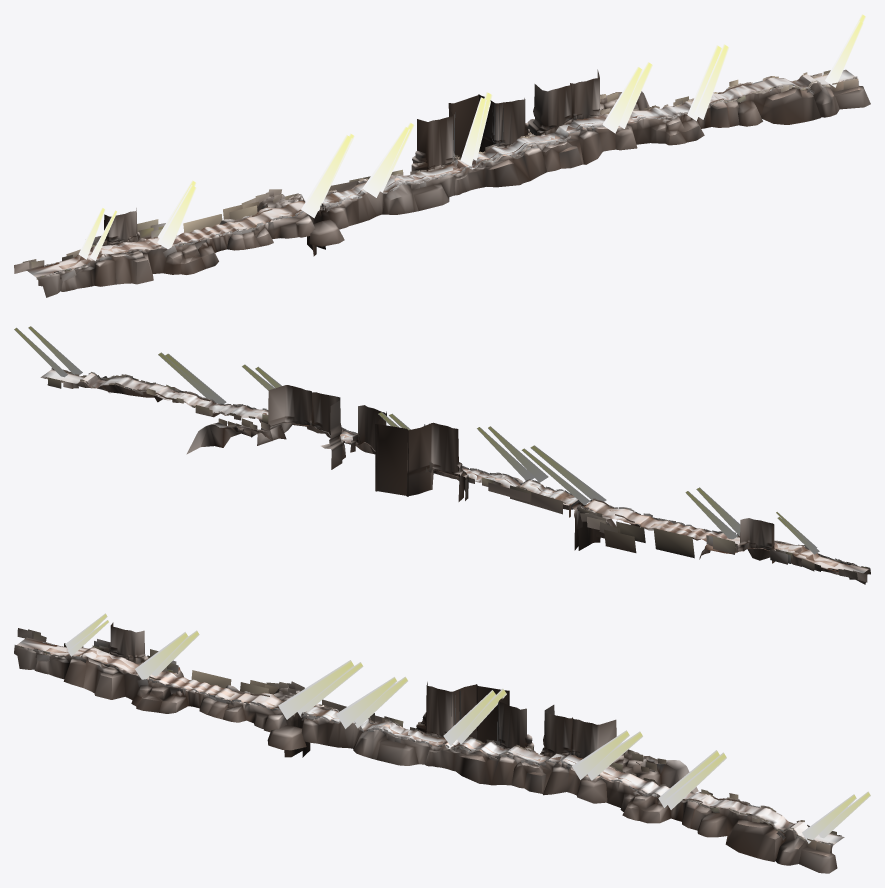
File: Forest_02.fbx
The picture shows the model from 3 angles, top to bottom: view 1: azimuth 30°, elevation 25°; view 2: azimuth 150°, elevation 25°; view 3: azimuth 330°, elevation 25°; orthographic projection.
Parts seen in each view (by area): view 1: Mountain_01, Light_01, Ground_01, Tree_01, Road_01; view 2: Mountain_01, Tree_01, Light_01, Ground_01, Road_01; view 3: Mountain_01, Light_01, Ground_01, Tree_01, Road_01.
Boxes of the visible parts, x1,y1,x2,y2 form: Mountain_01: (38, 69, 870, 297); Light_01: (78, 14, 865, 260); Ground_01: (26, 69, 854, 277); Tree_01: (14, 70, 858, 281); Road_01: (59, 115, 643, 269); Mountain_01: (47, 369, 870, 584); Tree_01: (43, 368, 870, 582); Light_01: (14, 326, 819, 554); Ground_01: (40, 369, 868, 573); Road_01: (78, 381, 838, 566); Mountain_01: (14, 622, 837, 873); Light_01: (65, 613, 870, 843); Ground_01: (17, 637, 844, 844); Tree_01: (14, 628, 841, 853); Road_01: (46, 648, 630, 781).
Size of the model in its own units: 66733 by 7714 by 7486.
